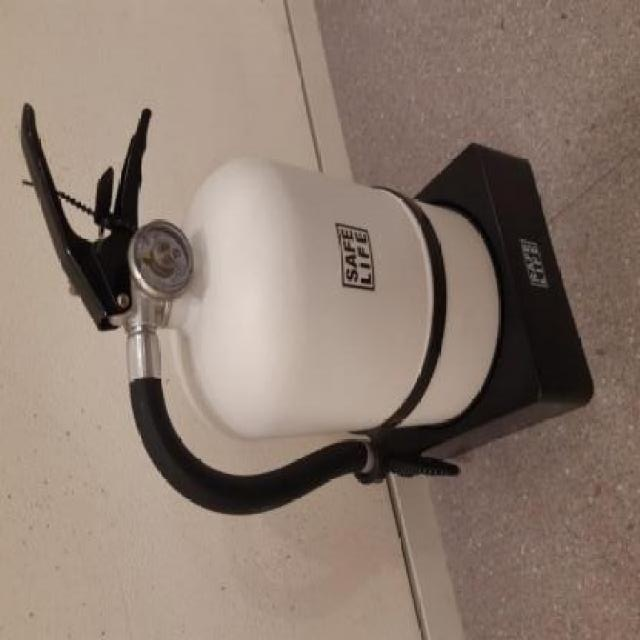fire extinguisher: (17, 102, 498, 515)
